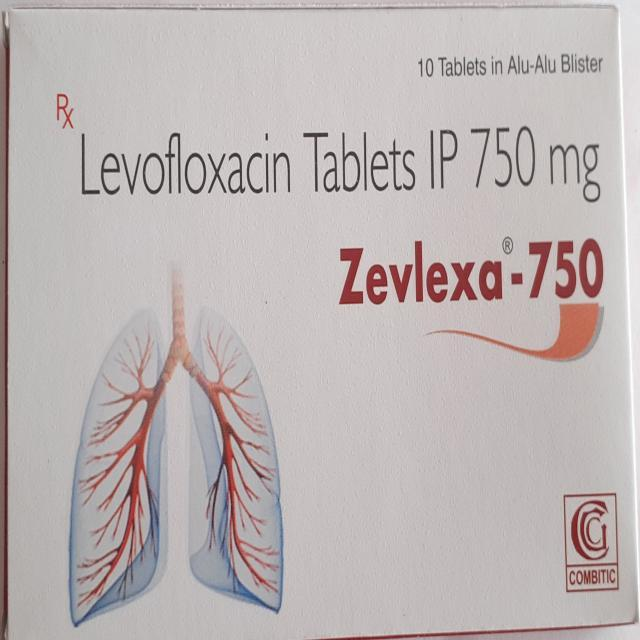drug-name: (338, 234, 618, 303)
